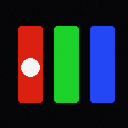2 circle: (21, 58, 39, 76)
